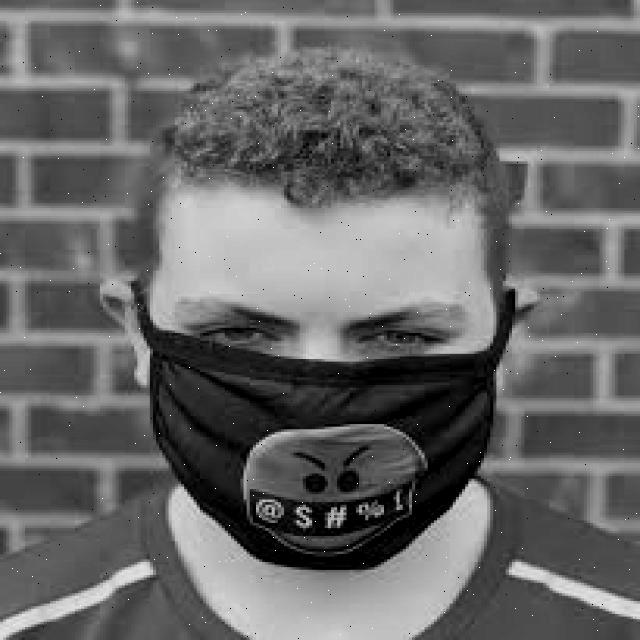fake: (140, 341, 506, 579)
real: (150, 183, 501, 582)
